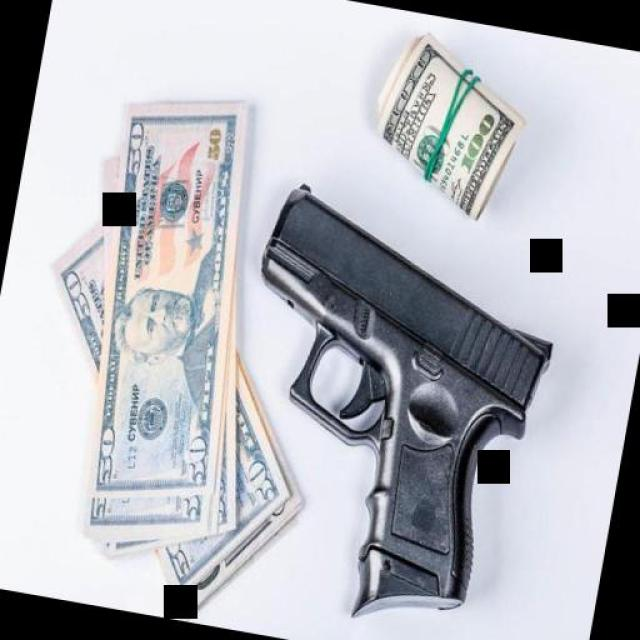gun: (196, 166, 576, 640)
